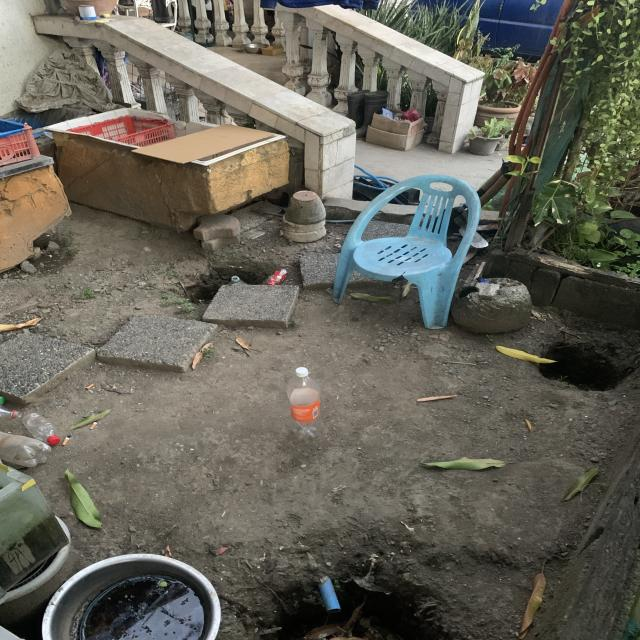Bottle: (287, 366, 322, 437)
